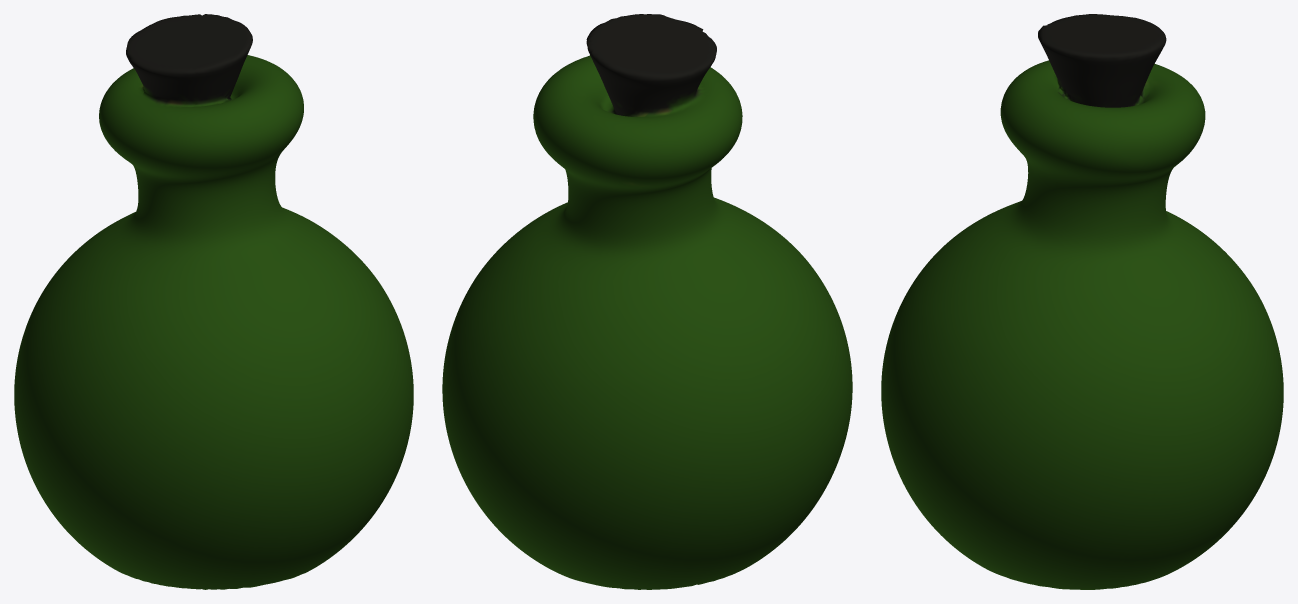
File: exporttrank5.fbx
3 views of the same model, side by side, from view 1: azimuth 30°, elevation 25°; view 2: azimuth 150°, elevation 25°; view 3: azimuth 270°, elevation 25° (orthographic).
Visible parts, largest first — view 1: ReferenceModel_Selection_7; view 2: ReferenceModel_Selection_7; view 3: ReferenceModel_Selection_7.
Boxes of the visible parts, x1,y1,x2,y2 form: ReferenceModel_Selection_7: [14, 14, 413, 589]; ReferenceModel_Selection_7: [442, 14, 852, 589]; ReferenceModel_Selection_7: [881, 14, 1283, 589].
Bounding box in the file's own units: 33.83 × 46.94 × 33.85.
